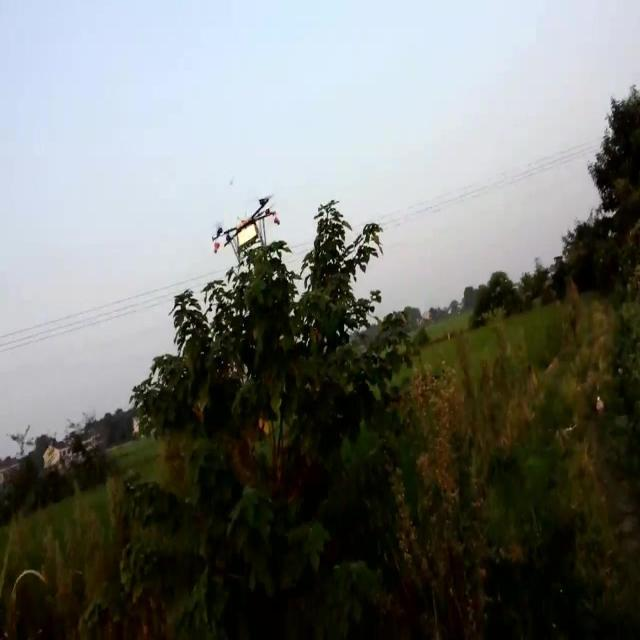drone: (210, 190, 282, 270)
